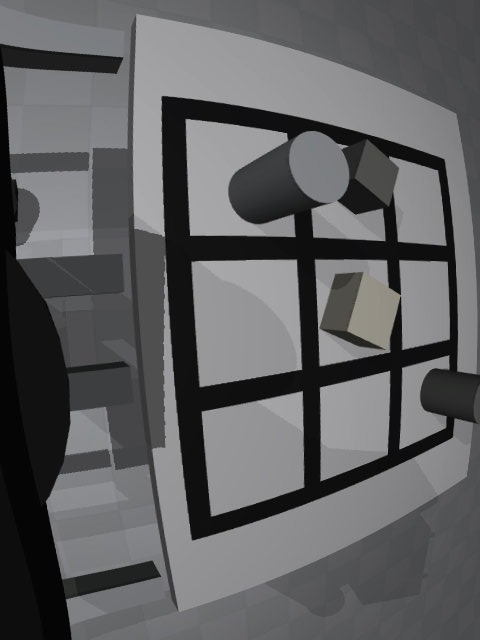can: (228, 131, 349, 224)
cube: (338, 139, 399, 215)
cylinder: (420, 368, 480, 424)
foam: (319, 272, 401, 350)
